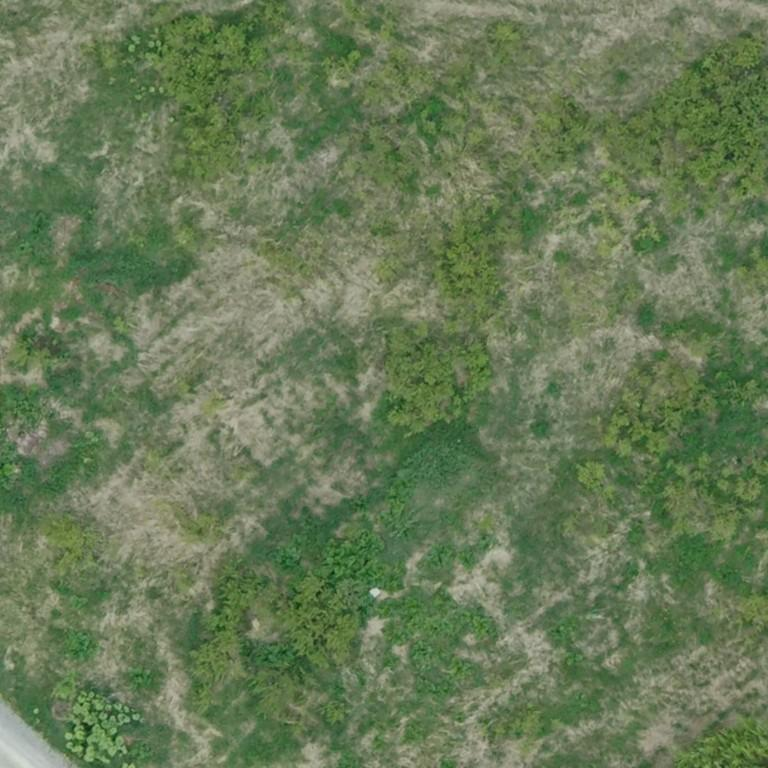hogweed: (321, 529, 402, 591), (258, 518, 323, 566), (459, 609, 491, 635), (426, 544, 454, 568), (548, 619, 574, 639), (410, 642, 434, 662), (447, 658, 471, 676), (350, 496, 367, 510)
